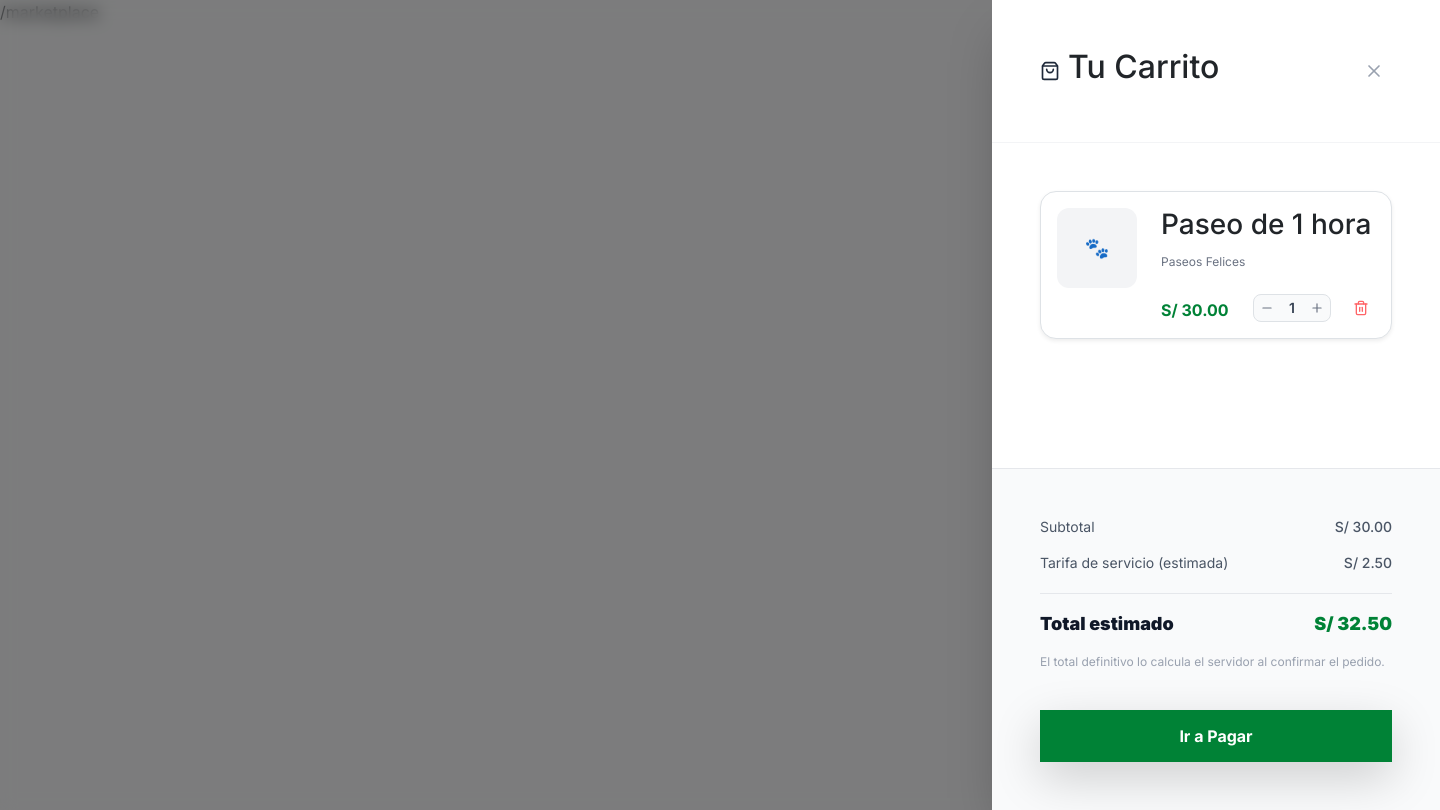
Test: Carrito lateral › eliminar quita la línea; sin líneas aparece el estado vacío
The width and height of the screenshot is (1440, 810).
Click the button named "Eliminar Paseo de 1 hora del carrito".
click(1361, 308)  # box [1347,294,1375,322]
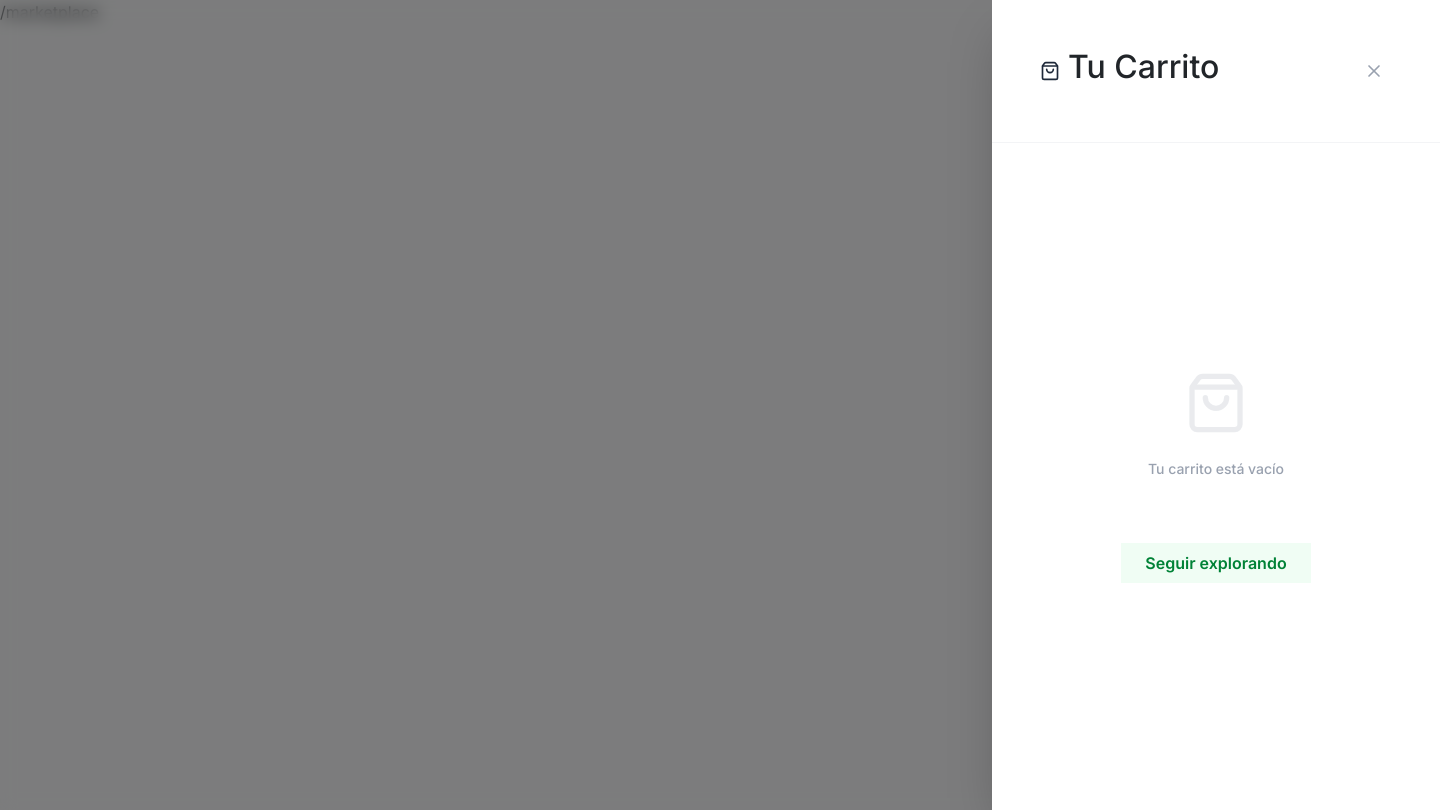
Expected: the text "Tu carrito está vacío" is shown, [1148,459,1284,479]
